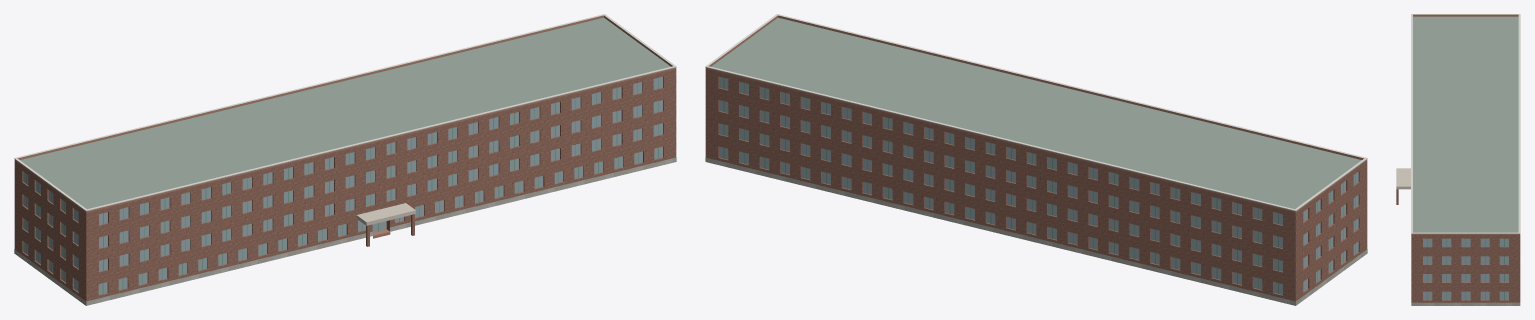
3 renders of one model, left to right at view 1: azimuth 30°, elevation 25°; view 2: azimuth 150°, elevation 25°; view 3: azimuth 270°, elevation 25°, orthographic. The views are drawn at different scales.
Parts seen in each view (by area): view 1: b115951775__wall, b115951775__roof, b115951775__glass, b115951775__base, b115951775__parapet, b115951775__trim, b115951775__frame, b115951775__canopy; view 2: b115951775__wall, b115951775__roof, b115951775__glass, b115951775__base, b115951775__parapet, b115951775__trim, b115951775__frame; view 3: b115951775__roof, b115951775__wall, b115951775__glass, b115951775__trim, b115951775__base, b115951775__parapet, b115951775__canopy, b115951775__frame.
Boxes of the visible parts, left/top/right/bottom form: b115951775__wall: left=14, top=69, right=676, bottom=305; b115951775__roof: left=20, top=17, right=670, bottom=209; b115951775__glass: left=23, top=77, right=662, bottom=294; b115951775__base: left=14, top=157, right=676, bottom=305; b115951775__parapet: left=14, top=15, right=676, bottom=212; b115951775__trim: left=14, top=14, right=676, bottom=211; b115951775__frame: left=26, top=78, right=658, bottom=293; b115951775__canopy: left=356, top=203, right=415, bottom=225; b115951775__wall: left=705, top=69, right=1367, bottom=305; b115951775__roof: left=711, top=17, right=1361, bottom=209; b115951775__glass: left=719, top=77, right=1358, bottom=294; b115951775__base: left=705, top=157, right=1367, bottom=305; b115951775__parapet: left=705, top=15, right=1367, bottom=212; b115951775__trim: left=705, top=14, right=1367, bottom=211; b115951775__frame: left=723, top=78, right=1355, bottom=293; b115951775__roof: left=1413, top=16, right=1518, bottom=232; b115951775__wall: left=1396, top=189, right=1520, bottom=302; b115951775__glass: left=1423, top=238, right=1508, bottom=299; b115951775__trim: left=1411, top=14, right=1520, bottom=233; b115951775__base: left=1411, top=302, right=1520, bottom=305; b115951775__parapet: left=1411, top=14, right=1520, bottom=234; b115951775__canopy: left=1396, top=168, right=1410, bottom=189; b115951775__frame: left=1427, top=238, right=1504, bottom=300.
Size of the model in its own units: 95.66 by 15.15 by 22.93.
10 materials, 2 textured.
